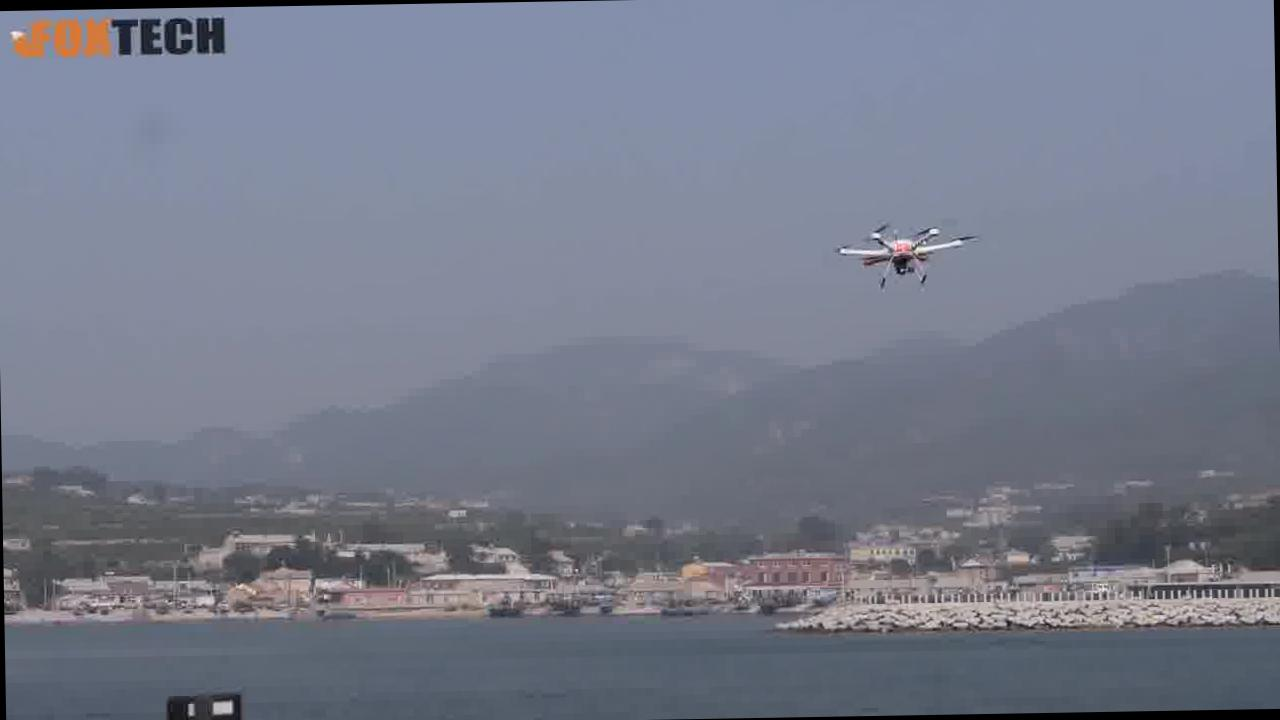drone: (804, 208, 986, 297)
